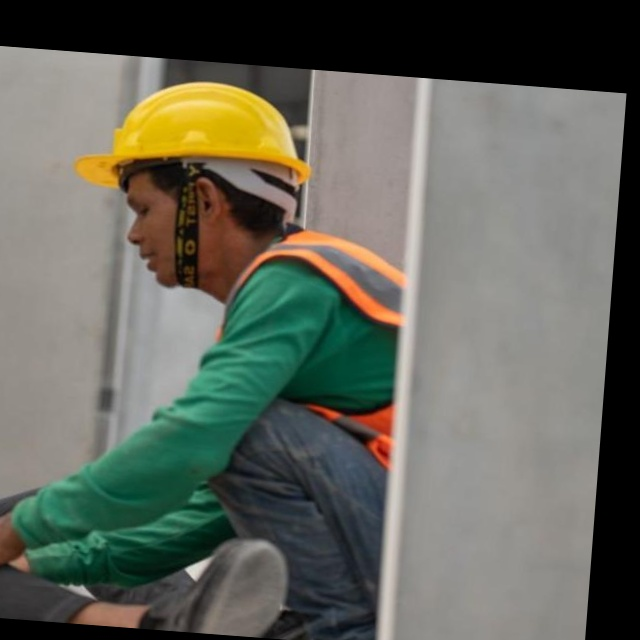Con_Casco: (69, 76, 314, 297)
